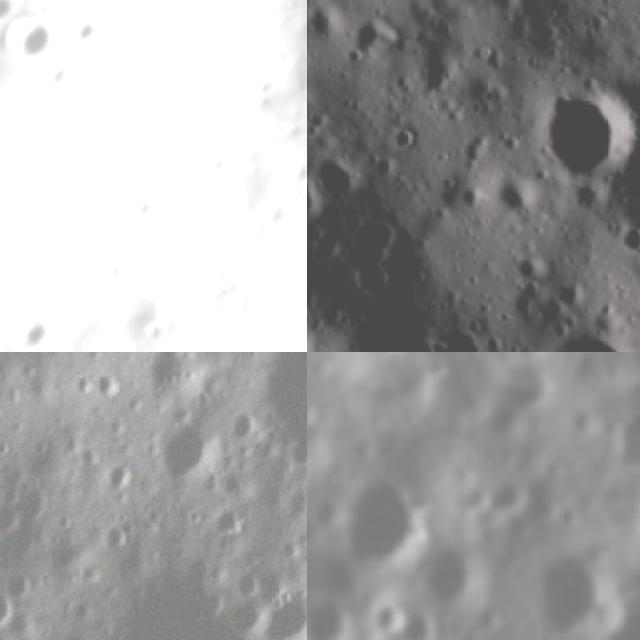crater: (528, 78, 640, 221), (338, 475, 420, 575), (532, 548, 620, 640), (250, 352, 307, 472), (144, 410, 226, 493), (412, 538, 483, 614), (410, 317, 530, 352), (308, 148, 374, 208), (599, 559, 640, 640), (252, 580, 307, 640), (375, 352, 438, 403), (494, 360, 550, 414), (2, 13, 52, 67), (607, 408, 640, 481), (482, 481, 527, 525), (0, 312, 49, 352), (544, 332, 640, 352), (307, 598, 351, 640), (63, 10, 108, 48), (394, 604, 440, 640), (369, 596, 405, 640), (0, 580, 24, 640), (307, 391, 326, 431), (294, 281, 307, 336), (0, 0, 16, 29)
